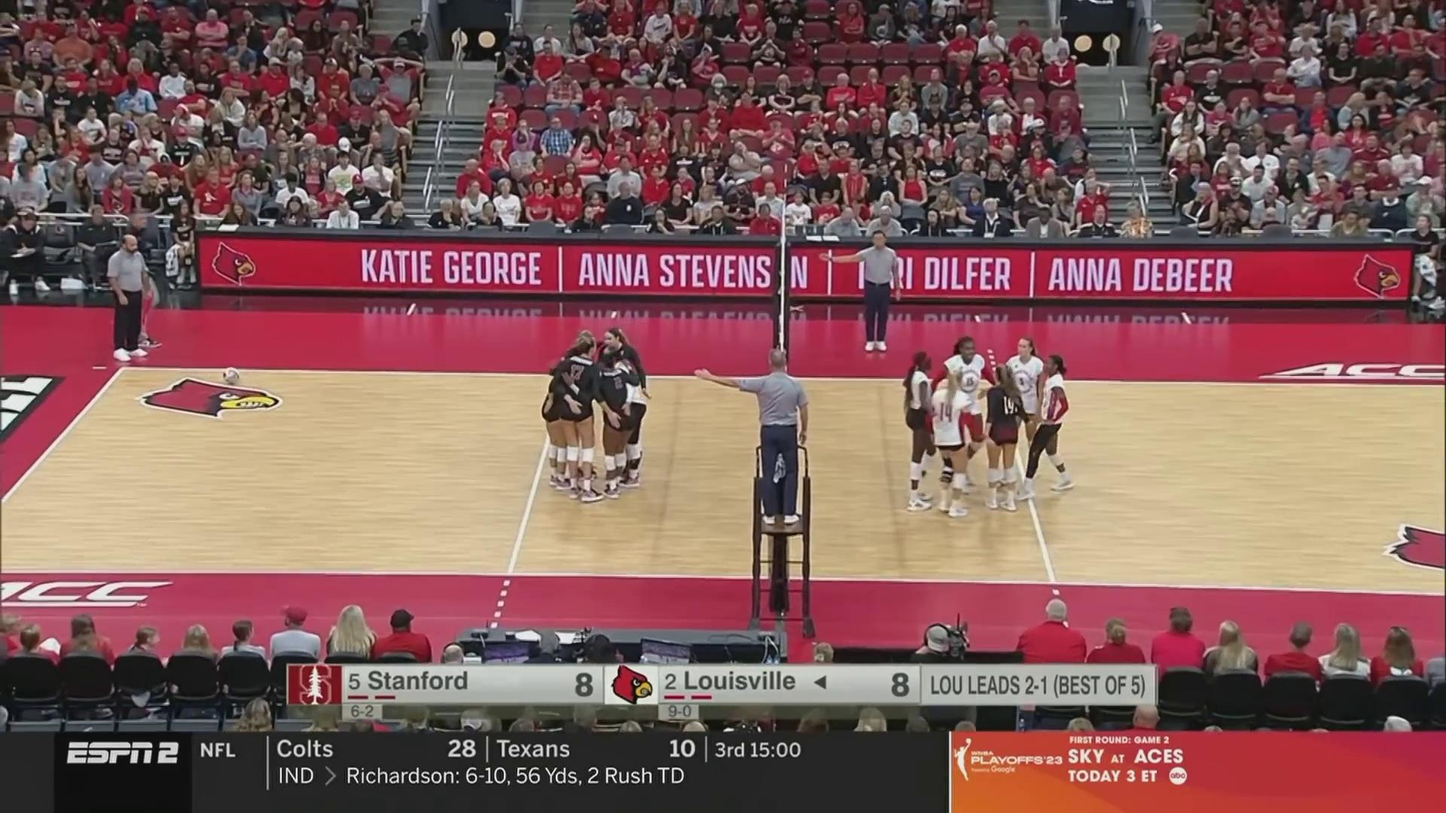player: (940, 330, 993, 497), (546, 341, 596, 496), (1025, 350, 1075, 504), (1000, 332, 1048, 488), (563, 329, 607, 491), (931, 371, 975, 522), (896, 345, 936, 511), (600, 329, 643, 475), (985, 360, 1025, 514), (567, 339, 601, 502), (594, 356, 630, 497), (612, 347, 645, 488)
refree: (737, 347, 810, 525), (844, 225, 902, 360), (109, 231, 160, 358)
